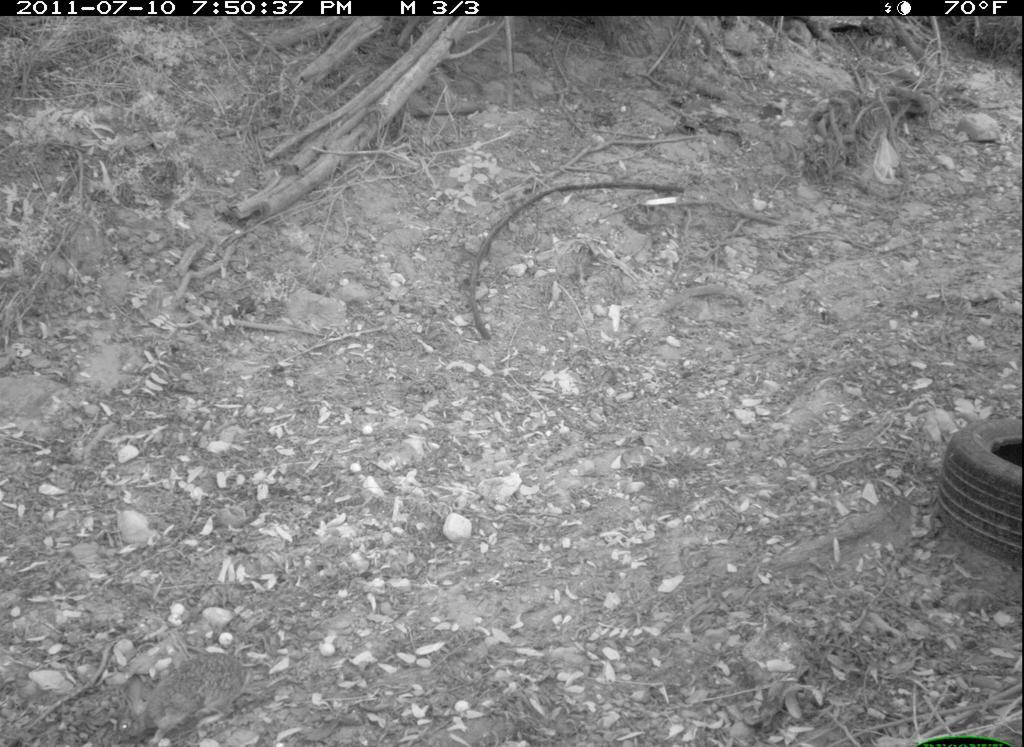rabbit: (111, 649, 254, 742)
